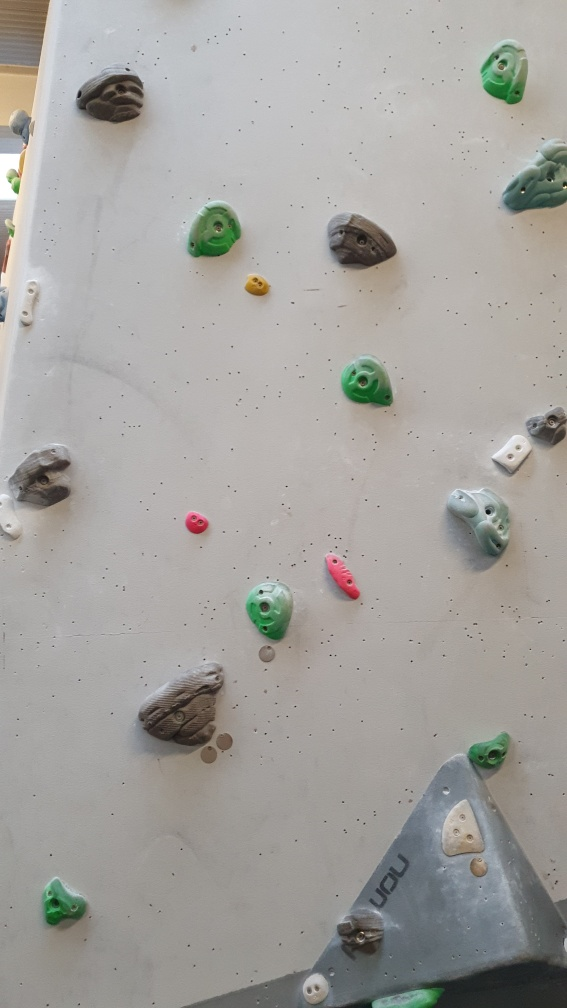Crimp: (323, 548, 367, 606), (16, 278, 41, 331)
Hand Start: (253, 639, 279, 666), (464, 856, 492, 879), (197, 744, 220, 766), (214, 728, 234, 750)
Jug: (137, 659, 221, 745), (491, 136, 567, 214), (71, 60, 151, 129), (9, 439, 77, 515), (442, 480, 510, 556), (323, 211, 402, 273), (185, 198, 242, 263), (479, 41, 532, 107), (338, 352, 397, 411), (245, 581, 298, 646), (470, 729, 512, 777)
Pinch: (242, 273, 271, 300)
